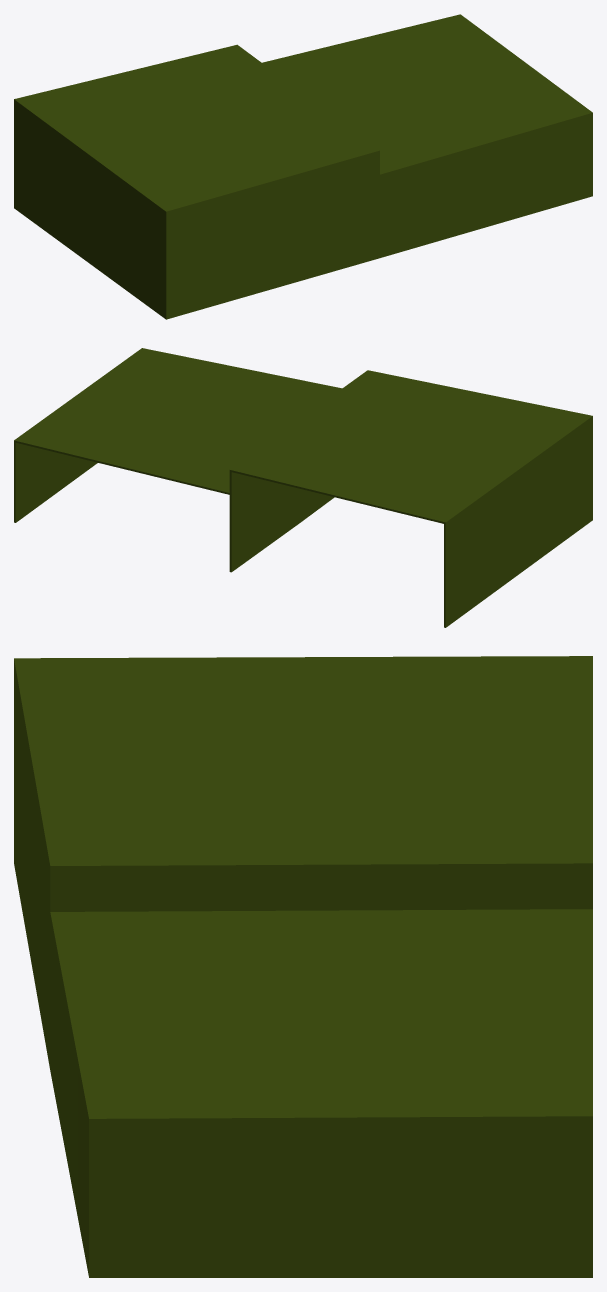
File: Shed01_M.fbx
3 views of the same model, one above another, from view 1: azimuth 30°, elevation 25°; view 2: azimuth 150°, elevation 25°; view 3: azimuth 270°, elevation 25° (orthographic). The views are drawn at different scales.
Visible parts, largest first — view 1: Shed01; view 2: Shed01; view 3: Shed01.
Part boxes in pixels (x1,y1,x2,y2): Shed01: [14, 14, 592, 319]; Shed01: [14, 348, 592, 627]; Shed01: [14, 656, 592, 1277].
Bounding box in the file's own units: 8.38 × 1.95 × 4.95.
